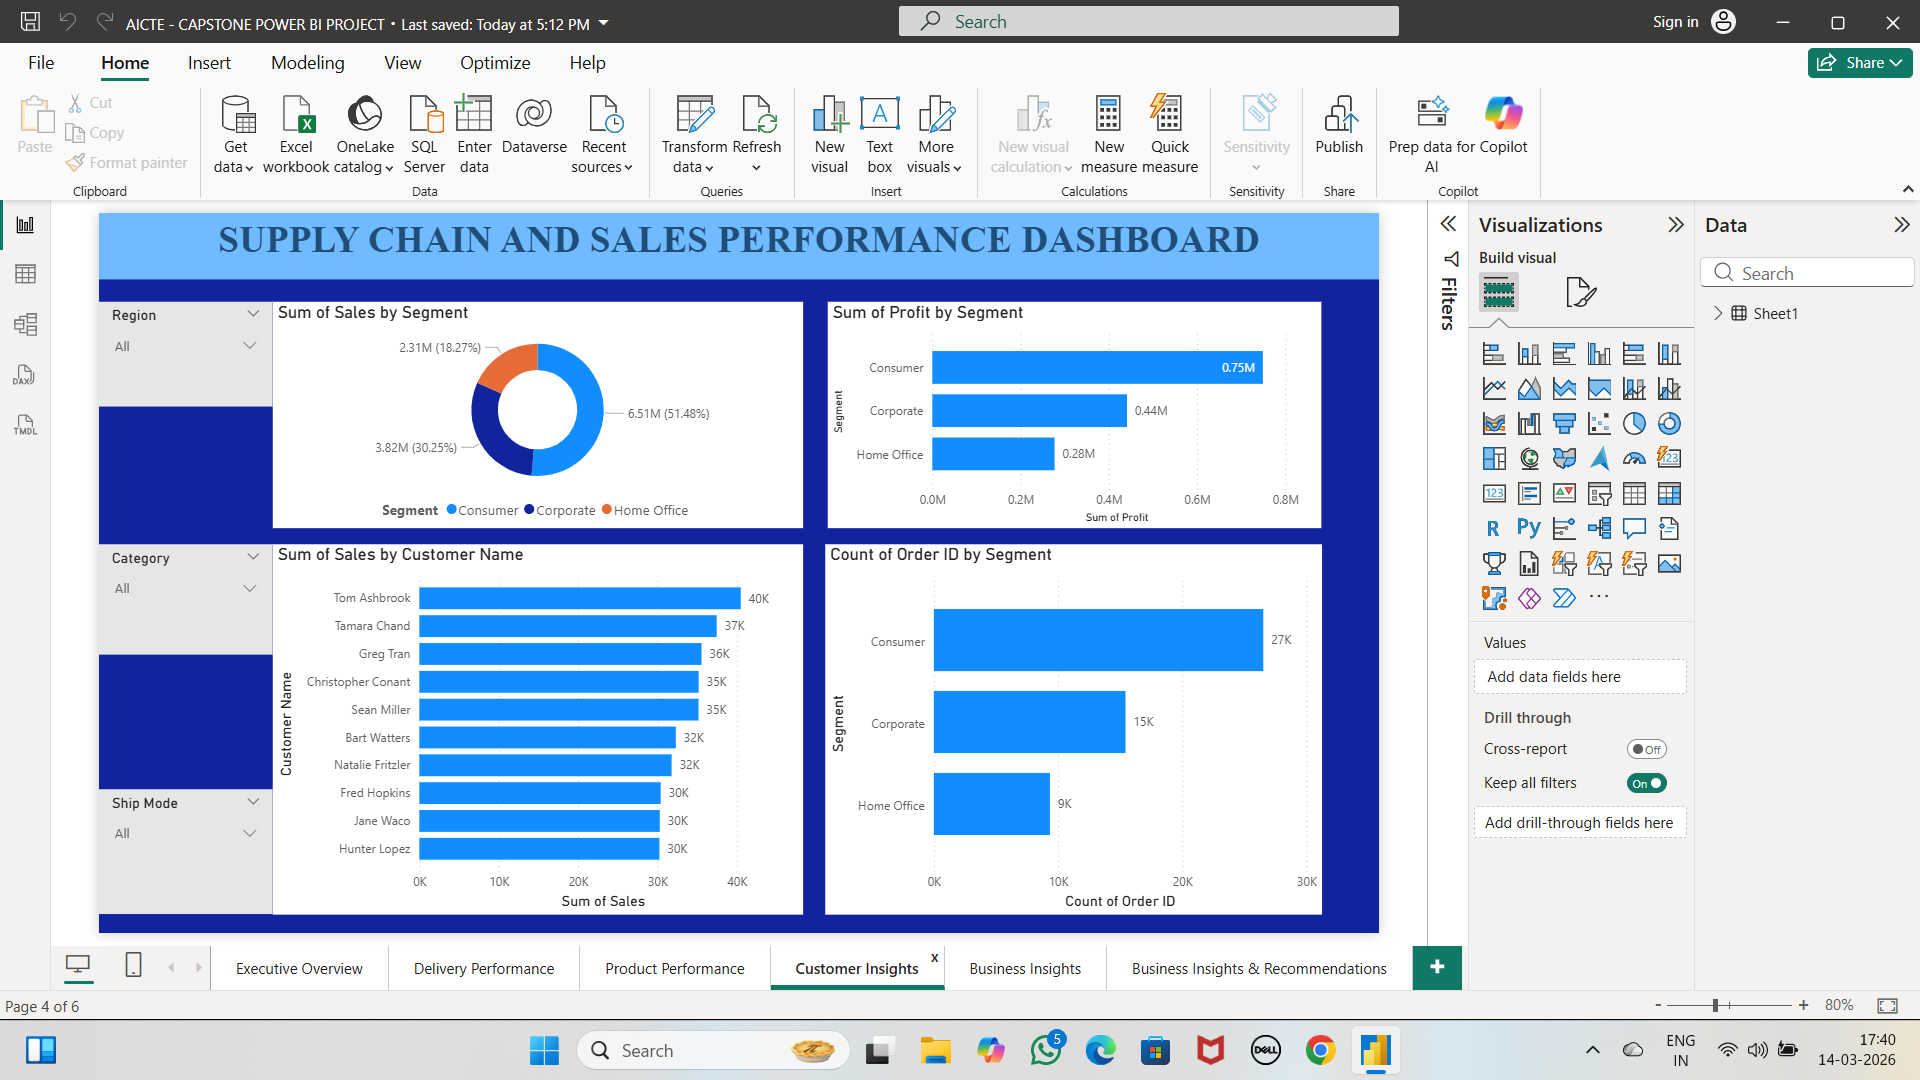

Layout of this report page (visuals, bound fields, positions):
{"tool":"powerbi","page":{"name":"Customer Insights","canvas":[1280,720],"ordinal":3},"visuals":[{"type":"donutChart","fields":{"Category":["Sheet1.Segment"],"Y":["Sum(Sheet1.Sales)"]},"box":[173.3,88.3,530,226.7],"z":0},{"type":"clusteredBarChart","fields":{"Category":["Sheet1.Segment"],"Y":["Sum(Sheet1.Profit)"]},"box":[728.3,88.3,493.3,226.7],"z":1000},{"type":"barChart","fields":{"Category":["Sheet1.Customer Name"],"Y":["Sum(Sheet1.Sales)"]},"box":[173.3,331.7,530,370],"z":2000},{"type":"barChart","fields":{"Category":["Sheet1.Segment"],"Y":["CountNonNull(Sheet1.Order ID)"]},"box":[726.7,331.7,496.7,370],"z":3000},{"type":"slicer","fields":{"Values":["Sheet1.Region"]},"box":[0,88.3,173.3,105],"z":4000},{"type":"slicer","fields":{"Values":["Sheet1.Category"]},"box":[0,331.7,173.3,110],"z":5000},{"type":"slicer","fields":{"Values":["Sheet1.Ship Mode"]},"box":[0,576.7,173.3,125],"z":6000},{"type":"textbox","box":[0,0,1280,66.7],"z":7000}]}

Visuals, with their boxes on the page's 1280x720 design canvas (x1, y1, x2, y2). These are canvas units, not pixel positions in the 1920x1080 screenshot, which may show the page scaled, cropped or inside an application window:
donutChart - Sheet1.Segment x Sum(Sheet1.Sales): l=173, t=88, r=703, b=315
clusteredBarChart - Sheet1.Segment x Sum(Sheet1.Profit): l=728, t=88, r=1222, b=315
barChart - Sheet1.Customer Name x Sum(Sheet1.Sales): l=173, t=332, r=703, b=702
barChart - Sheet1.Segment x CountNonNull(Sheet1.Order ID): l=727, t=332, r=1223, b=702
slicer - Sheet1.Region: l=0, t=88, r=173, b=193
slicer - Sheet1.Category: l=0, t=332, r=173, b=442
slicer - Sheet1.Ship Mode: l=0, t=577, r=173, b=702
textbox: l=0, t=0, r=1280, b=67
